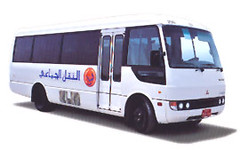bus: (10, 19, 226, 135)
